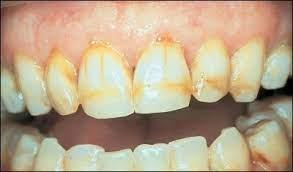Calculus: (136, 31, 189, 113), (77, 40, 133, 117), (194, 31, 229, 104), (44, 50, 81, 113), (231, 38, 266, 103), (248, 122, 291, 171)
